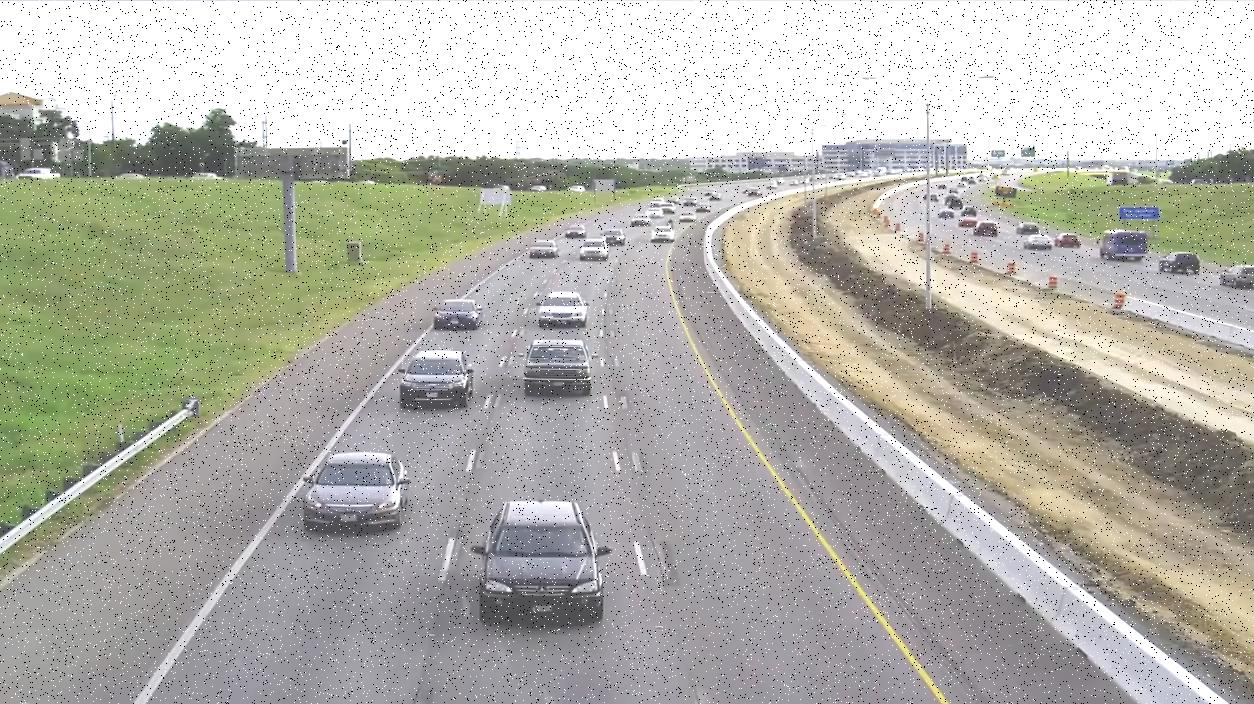bus: (1100, 232, 1153, 264)
car: (475, 495, 613, 620), (305, 450, 412, 535), (398, 349, 478, 406), (515, 338, 595, 392), (538, 291, 591, 328), (435, 299, 484, 329), (1216, 264, 1254, 288), (1160, 253, 1199, 274), (529, 243, 558, 261), (17, 169, 58, 181), (582, 244, 608, 262), (1022, 238, 1052, 253), (1057, 235, 1083, 251), (976, 221, 1001, 237), (650, 228, 674, 242), (602, 229, 623, 244), (564, 227, 588, 239), (627, 217, 646, 227)
